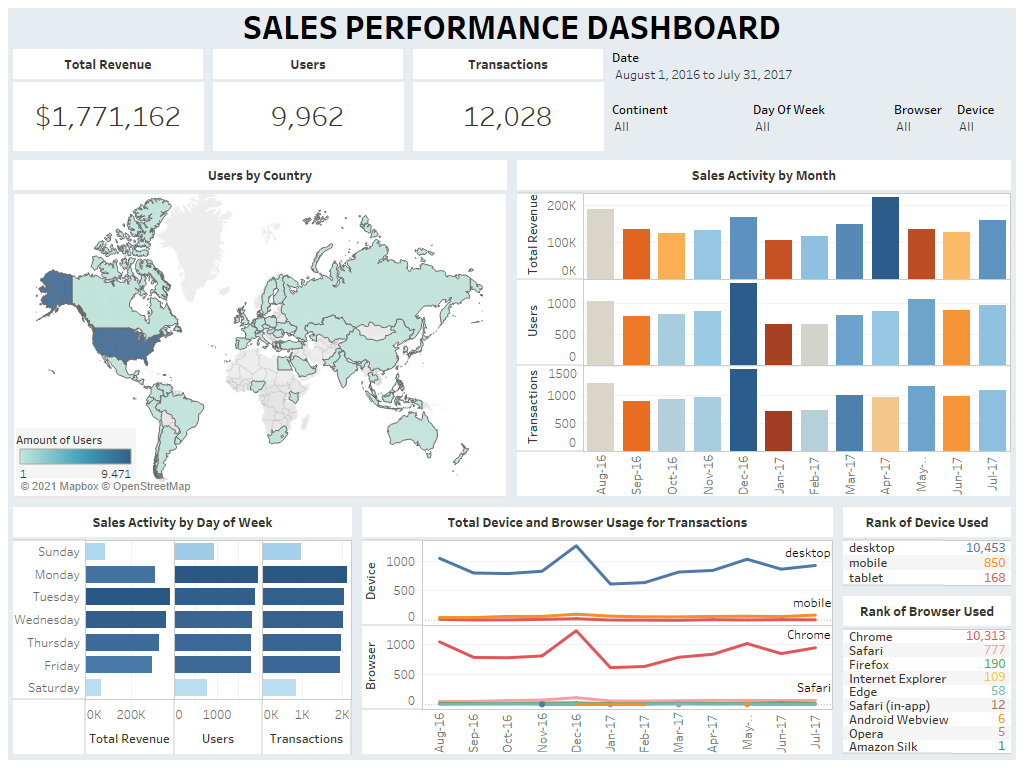

This screenshot's page, from the dashboard's own definition file:
{"tool":"tableau","page":{"name":"Sales Perf. Dashboard","canvas":[1024,768],"ordinal":0},"visuals":[{"type":"worksheet","box":[0,0,1024,768]},{"type":"worksheet","box":[8,8,1008,36]},{"type":"worksheet","param":"horz","box":[8,44,200,111]},{"type":"worksheet","title":"Total Revenue","mark":"Automatic","box":[8,44,200,111]},{"type":"worksheet","param":"horz","box":[208,44,200,111]},{"type":"worksheet","title":"Users","mark":"Automatic","box":[208,44,200,111]},{"type":"worksheet","param":"horz","box":[408,44,200,111]},{"type":"worksheet","title":"Transactions","mark":"Automatic","box":[408,44,200,111]},{"type":"worksheet","param":"vert","box":[608,44,408,52]},{"type":"worksheet","param":"horz","box":[608,44,408,51]},{"type":"worksheet","title":"Total Revenue","mark":"Automatic","param":"[federated.18t7r7m0hok21y1fbt6wf1u2m9an].[tdy:date:qk]","box":[608,44,408,51]},{"type":"worksheet","title":"Total Revenue","mark":"Automatic","param":"[federated.18t7r7m0hok21y1fbt6wf1u2m9an].[none:continent:nk]","box":[608,96,141,59]},{"type":"worksheet","title":"Total Revenue","mark":"Automatic","param":"[federated.18t7r7m0hok21y1fbt6wf1u2m9an].[none:day_of_week:nk]","box":[749,96,141,59]},{"type":"worksheet","title":"Total Revenue","mark":"Automatic","param":"[federated.18t7r7m0hok21y1fbt6wf1u2m9an].[none:browser:nk]","box":[890,96,63,59]},{"type":"worksheet","title":"Total Revenue","mark":"Automatic","param":"[federated.18t7r7m0hok21y1fbt6wf1u2m9an].[none:deviceCategory:nk]","box":[953,96,63,59]},{"type":"worksheet","param":"horz","box":[8,155,504,347]},{"type":"worksheet","title":"Users by Country","mark":"Automatic","box":[8,155,504,347]},{"type":"worksheet","param":"vert","box":[512,155,504,347]},{"type":"worksheet","title":"Sales Activ. by Month","mark":"Bar","rows":["totalTransactionRevenue","fullVisitorId","transactions"],"cols":["date"],"box":[512,155,504,347]},{"type":"worksheet","title":"Users by Country","mark":"Automatic","param":"[federated.18t7r7m0hok21y1fbt6wf1u2m9an].[ctd:fullVisitorId:qk]","box":[16,428,120,50]},{"type":"worksheet","param":"horz","box":[8,502,349,258]},{"type":"worksheet","title":"Sales Activ. by Day of Week","mark":"Automatic","rows":["day_of_week"],"cols":["totalTransactionRevenue","fullVisitorId","transactions"],"box":[8,502,349,258]},{"type":"worksheet","param":"vert","box":[357,502,481,258]},{"type":"worksheet","param":"horz","box":[357,502,481,258]},{"type":"worksheet","title":"Total Device & Browser Usage","mark":"Automatic","rows":["deviceCategory","browser"],"cols":["date"],"box":[357,502,481,258]},{"type":"worksheet","param":"vert","box":[838,502,178,258]},{"type":"worksheet","title":"Device Category","mark":"Text","rows":["deviceCategory"],"box":[838,502,178,89]},{"type":"worksheet","title":"Browser","mark":"Text","rows":["browser"],"box":[838,591,178,169]}]}

Visuals, with their boxes in screenshot pixels (x1, y1, x2, y2), scaled from the page's 1024x768 canvas onto the 1024x768 screenshot:
worksheet: BBox(0, 0, 1023, 767)
worksheet: BBox(8, 8, 1016, 44)
worksheet: BBox(8, 44, 208, 155)
"Total Revenue" worksheet: BBox(8, 44, 208, 155)
worksheet: BBox(208, 44, 408, 155)
"Users" worksheet: BBox(208, 44, 408, 155)
worksheet: BBox(408, 44, 608, 155)
"Transactions" worksheet: BBox(408, 44, 608, 155)
worksheet: BBox(608, 44, 1016, 96)
worksheet: BBox(608, 44, 1016, 95)
"Total Revenue" worksheet: BBox(608, 44, 1016, 95)
"Total Revenue" worksheet: BBox(608, 96, 749, 155)
"Total Revenue" worksheet: BBox(749, 96, 890, 155)
"Total Revenue" worksheet: BBox(890, 96, 953, 155)
"Total Revenue" worksheet: BBox(953, 96, 1016, 155)
worksheet: BBox(8, 155, 512, 502)
"Users by Country" worksheet: BBox(8, 155, 512, 502)
worksheet: BBox(512, 155, 1016, 502)
"Sales Activ. by Month" worksheet (Bar marks): BBox(512, 155, 1016, 502)
"Users by Country" worksheet: BBox(16, 428, 136, 478)
worksheet: BBox(8, 502, 357, 760)
"Sales Activ. by Day of Week" worksheet: BBox(8, 502, 357, 760)
worksheet: BBox(357, 502, 838, 760)
worksheet: BBox(357, 502, 838, 760)
"Total Device & Browser Usage" worksheet: BBox(357, 502, 838, 760)
worksheet: BBox(838, 502, 1016, 760)
"Device Category" worksheet (Text marks): BBox(838, 502, 1016, 591)
"Browser" worksheet (Text marks): BBox(838, 591, 1016, 760)
